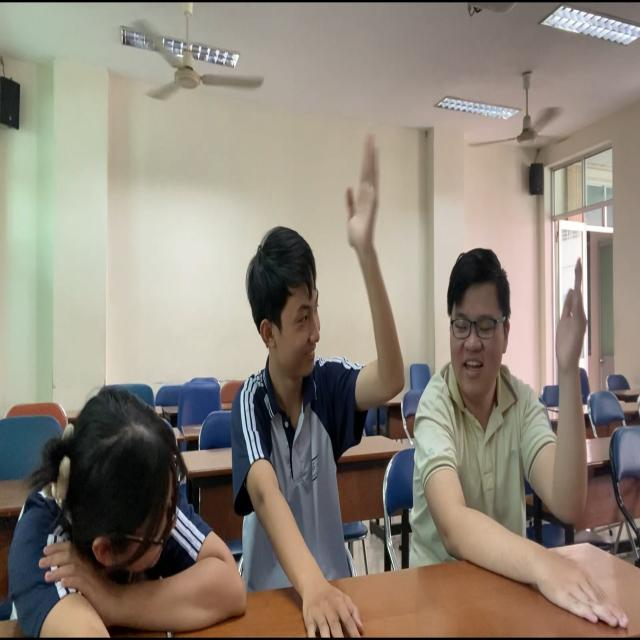raise_hand: (228, 125, 408, 640), (415, 218, 637, 628)
